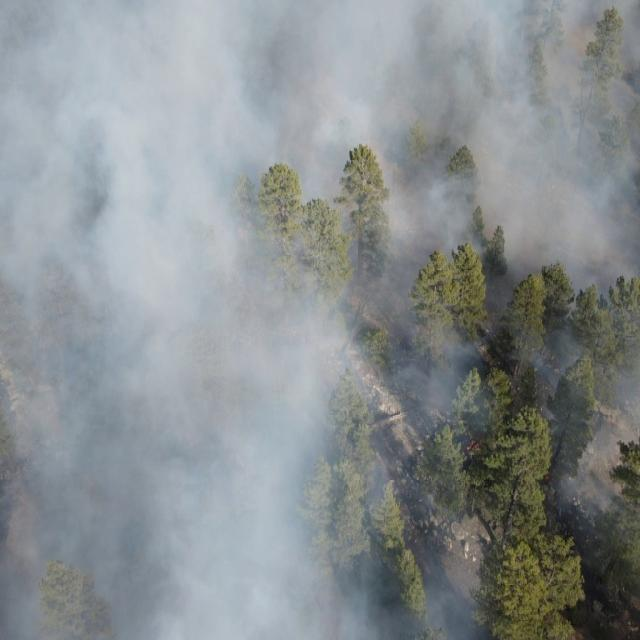fire: (467, 429, 480, 456)
smoke: (1, 0, 640, 561), (0, 562, 496, 640)
